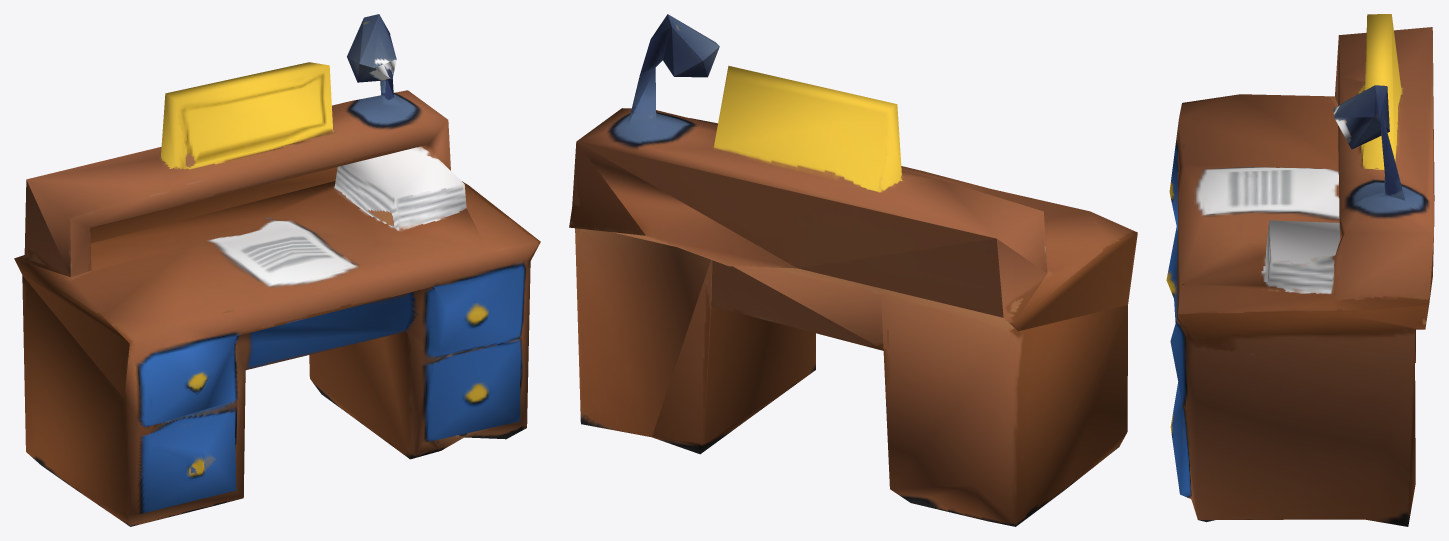
File: principal-desk.glb
3 views of the same model, side by side, from view 1: azimuth 30°, elevation 25°; view 2: azimuth 150°, elevation 25°; view 3: azimuth 270°, elevation 25° (orthographic). The views are drawn at different scales.
Visible parts, largest first — view 1: geometry_0.001; view 2: geometry_0.001; view 3: geometry_0.001.
Boxes of the visible parts, x1,y1,x2,y2 form: geometry_0.001: [14, 14, 540, 526]; geometry_0.001: [569, 14, 1137, 526]; geometry_0.001: [1166, 14, 1434, 526].
Bounding box in the file's own units: 0.9989 × 0.8798 × 0.5201.
1 material, 1 textured.
